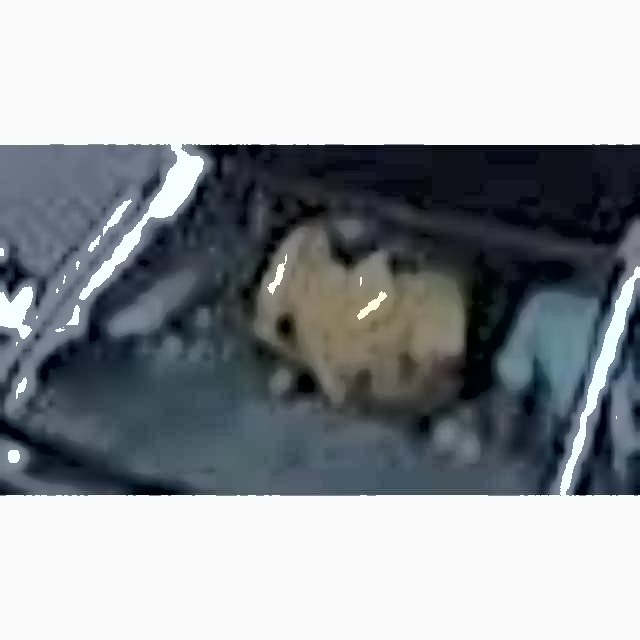tidak-pakai: (256, 179, 472, 428), (485, 239, 627, 468)
